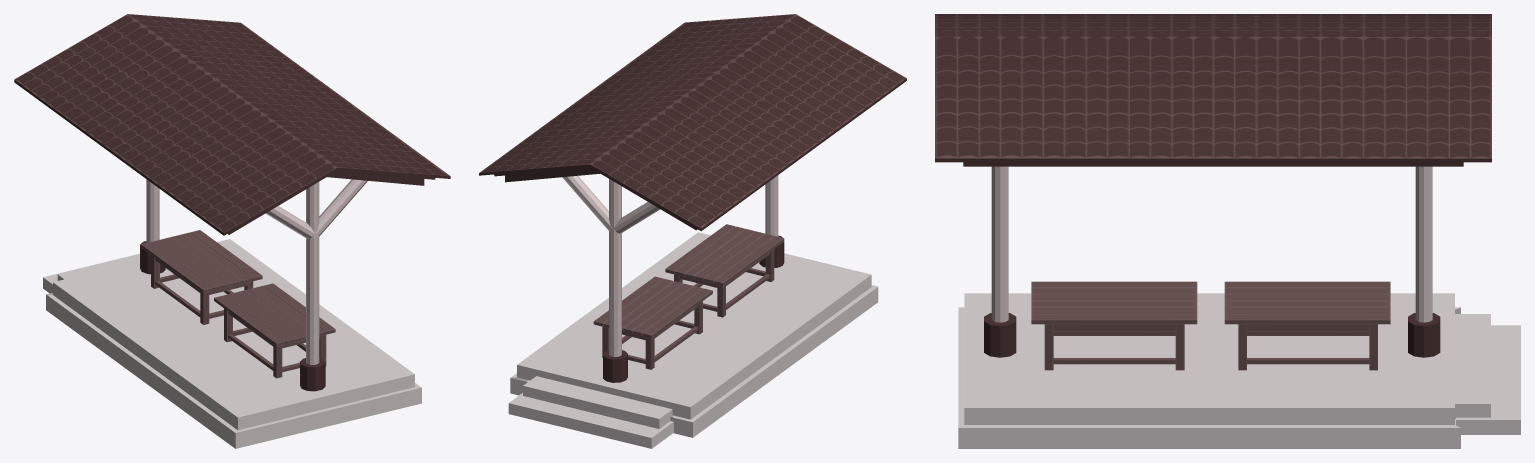
3 views of the same model, side by side, from view 1: azimuth 30°, elevation 25°; view 2: azimuth 150°, elevation 25°; view 3: azimuth 270°, elevation 25° (orthographic). The views are drawn at different scales.
Parts seen in each view (by area): view 1: shed, floor, chair_2, chair_3; view 2: shed, floor, chair_3, chair_2; view 3: shed, floor, chair_3, chair_2.
Boxes of the visible parts, x1,y1,x2,y2 form: shed: (14, 14, 450, 391); floor: (43, 239, 421, 448); chair_2: (141, 230, 262, 324); chair_3: (214, 283, 335, 378); shed: (479, 14, 906, 382); floor: (508, 232, 878, 448); chair_3: (665, 224, 784, 317); chair_2: (593, 276, 712, 369); shed: (935, 14, 1491, 357); floor: (958, 293, 1520, 448); chair_3: (1031, 281, 1197, 370); chair_2: (1224, 281, 1390, 370).
Bounding box in the file's own units: 12.79 × 14.28 × 21.56.
